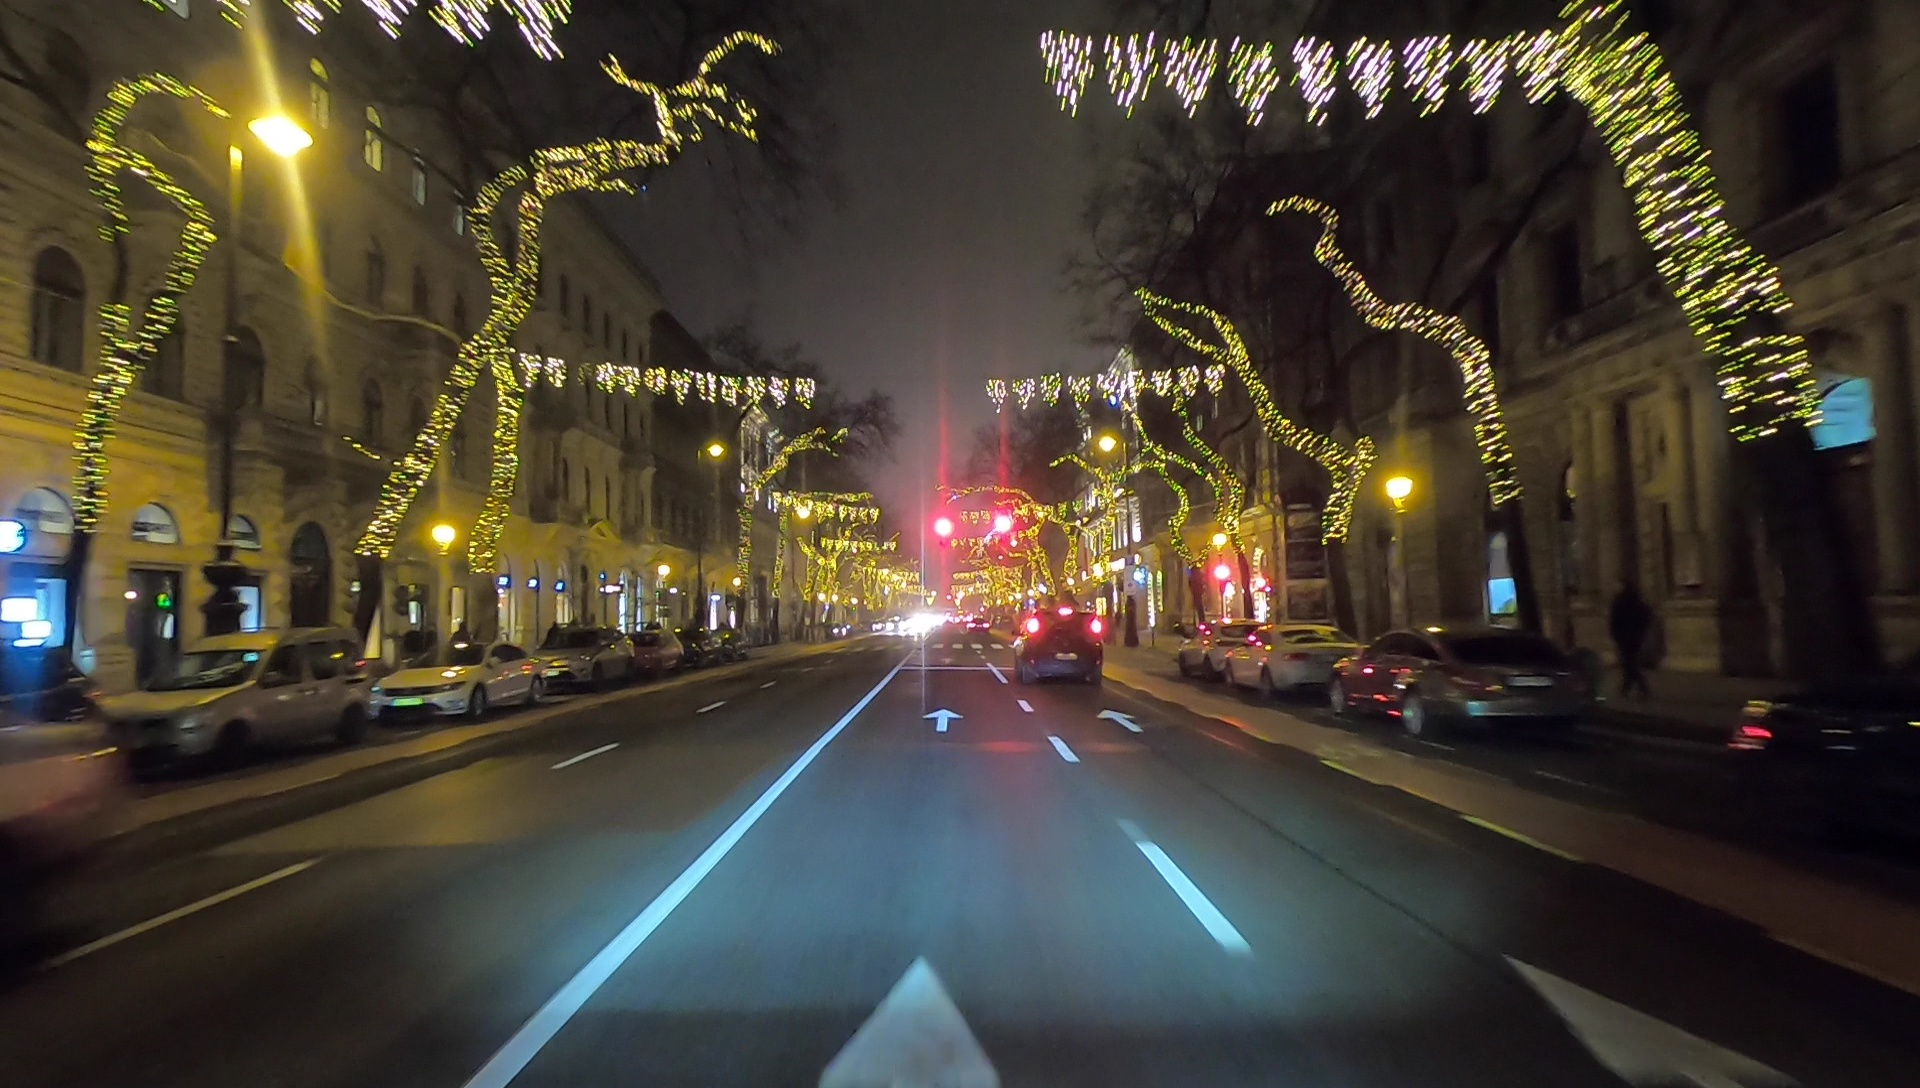person: (1608, 571, 1666, 699)
